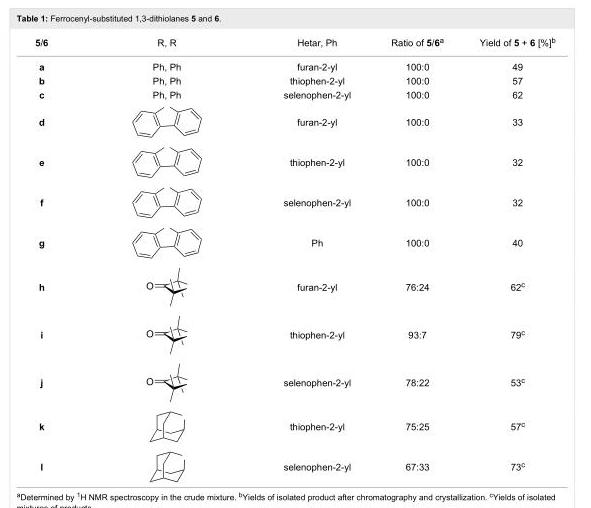table: (34, 35, 554, 471)
table column: (231, 35, 370, 471), (99, 35, 231, 471), (460, 35, 554, 471), (370, 35, 460, 471), (34, 35, 99, 471)
table row: (34, 309, 554, 357), (34, 263, 554, 309), (34, 357, 554, 403), (34, 403, 554, 445), (34, 181, 554, 222), (34, 222, 554, 263), (34, 141, 554, 181), (34, 107, 554, 141), (34, 445, 554, 471), (34, 87, 554, 107), (34, 35, 554, 54), (34, 54, 554, 73), (34, 73, 554, 87)
